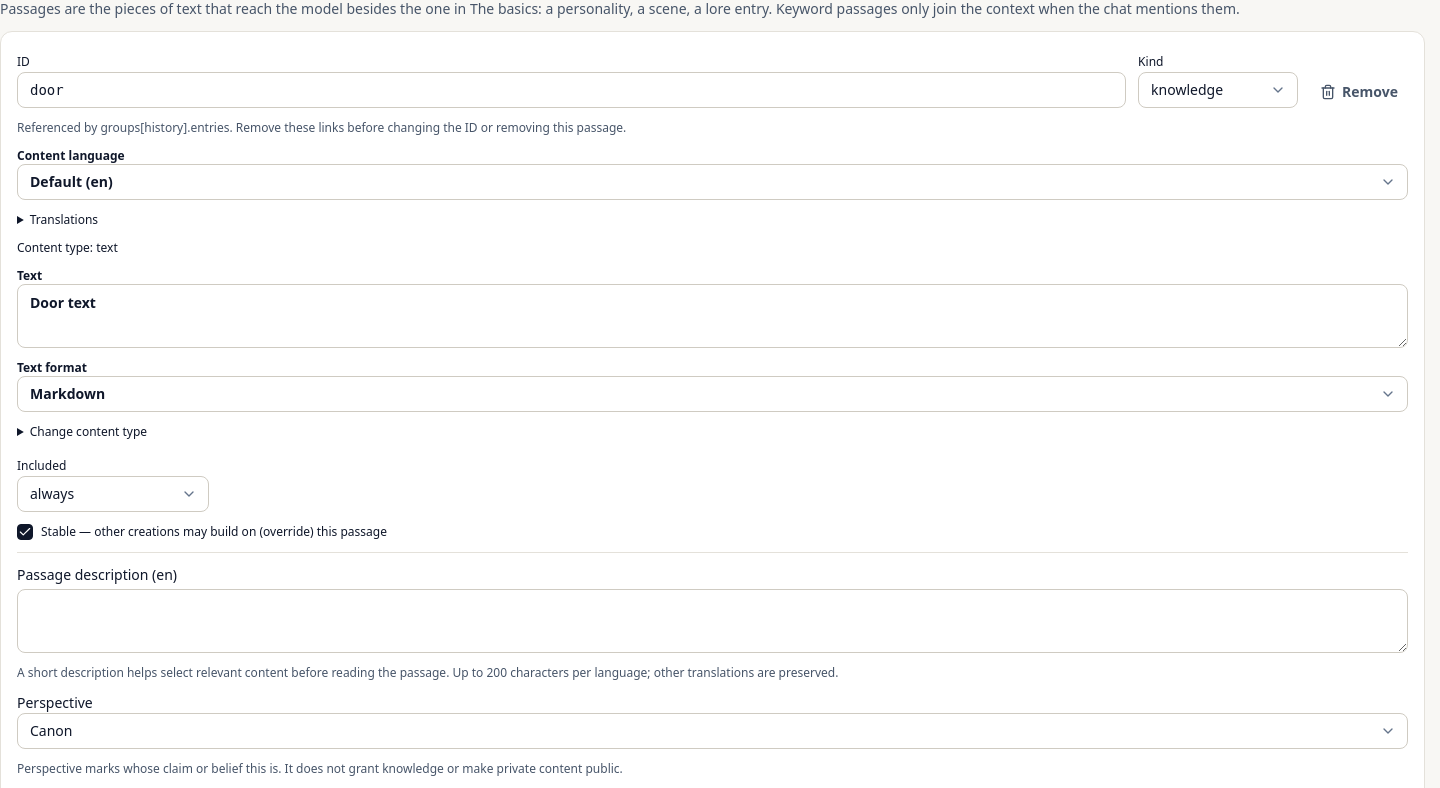
edits a filtered row in the original array and protects its ID and deletion when grouped
This screenshot has width=1440, height=788.
Replace the text in the text box labelled "Text" with "Changed door" at (712, 316), box [17, 284, 1408, 348]
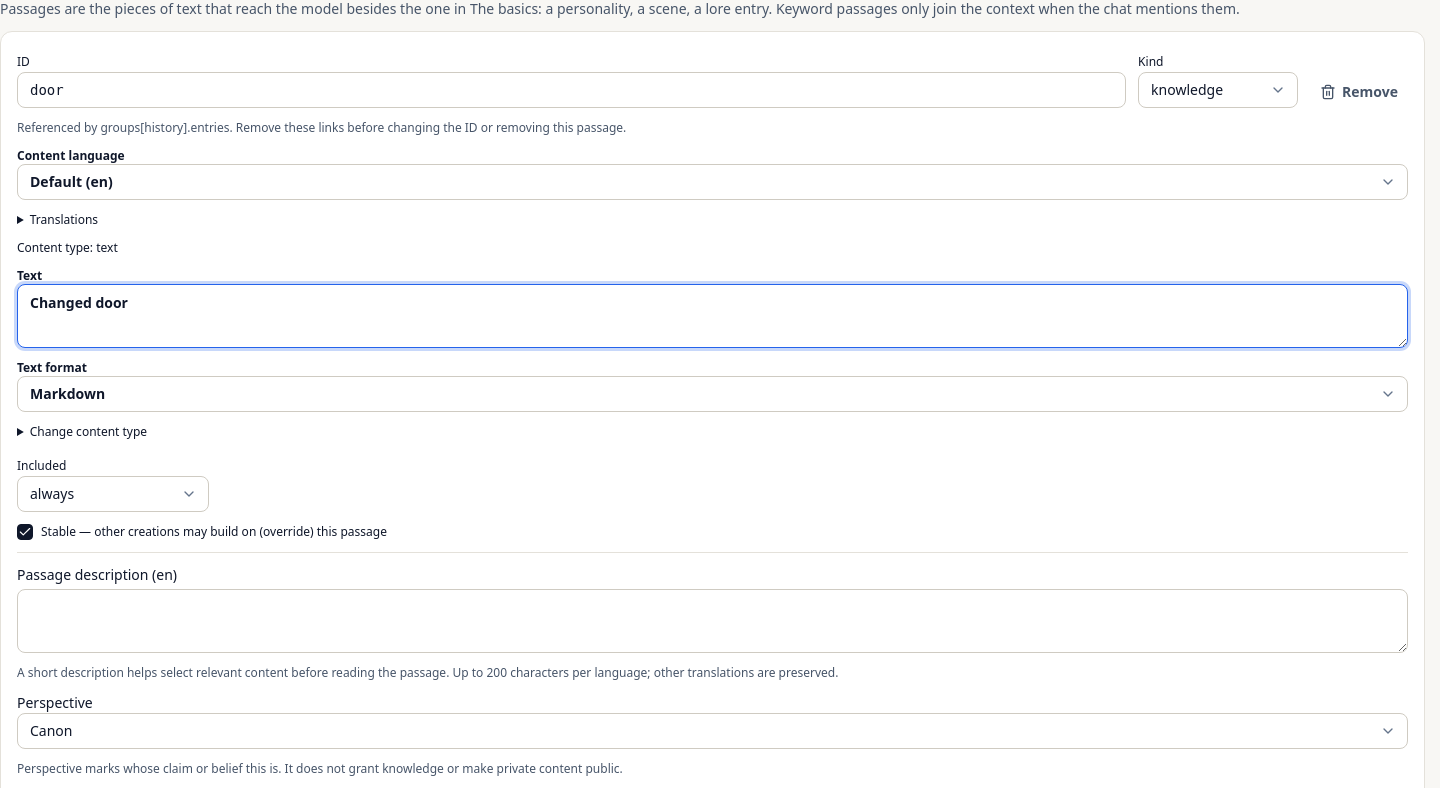
Click the button "Remove" at (1359, 92), box [1310, 76, 1408, 108]
(page scrolled)
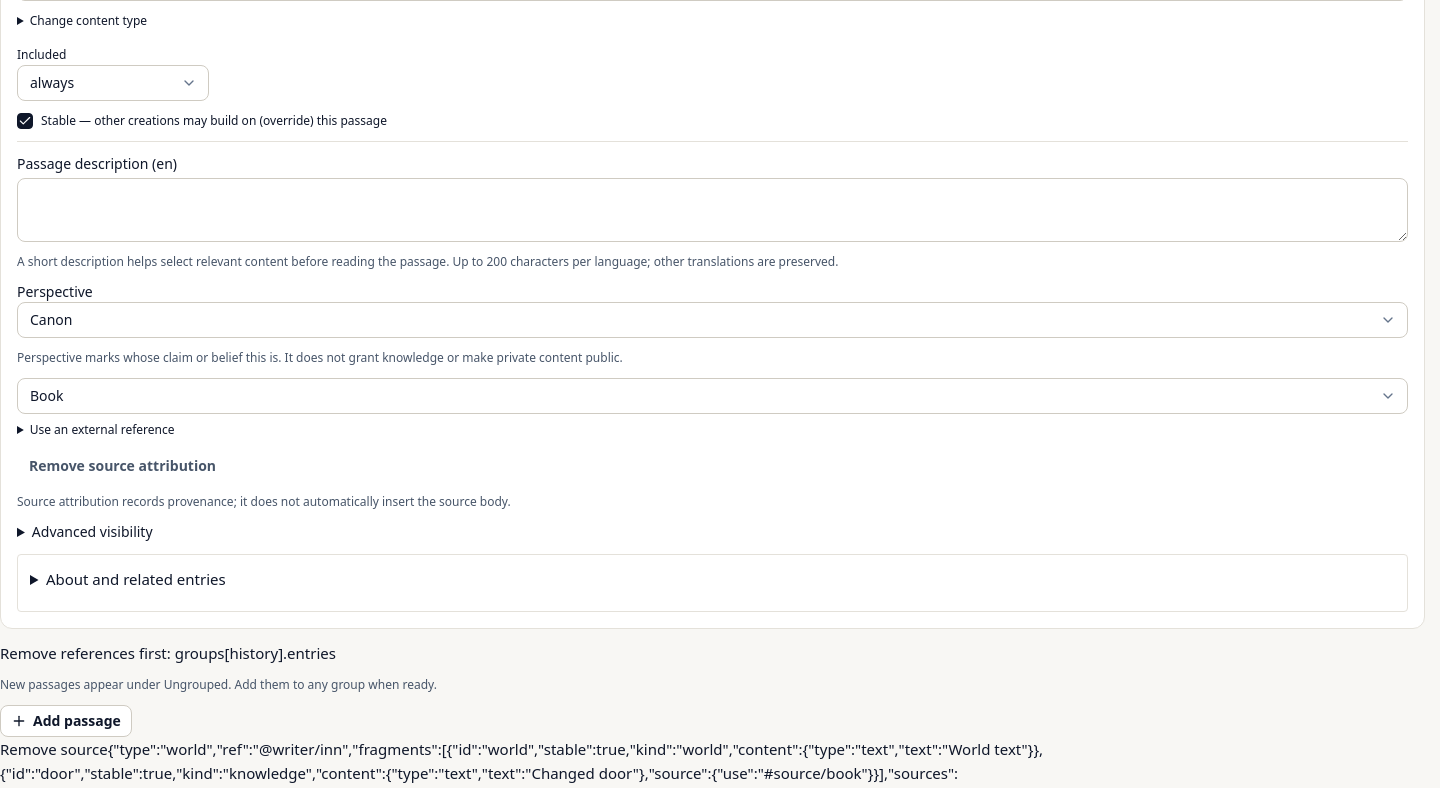
Expected: the message shows "groups[history].entries", [0, 643, 336, 663]
